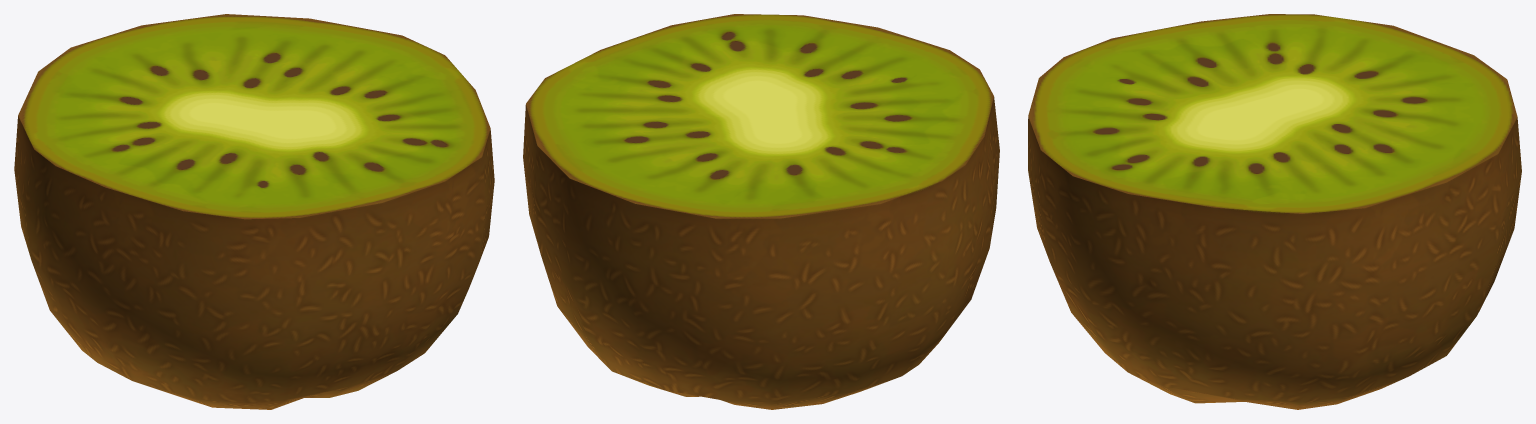
File: SM_KiwiCutTop.fbx
The picture shows the model from 3 angles, left to right: view 1: azimuth 30°, elevation 25°; view 2: azimuth 150°, elevation 25°; view 3: azimuth 270°, elevation 25°; orthographic projection.
Parts seen in each view (by area): view 1: SM_KiwiCutTop; view 2: SM_KiwiCutTop; view 3: SM_KiwiCutTop.
Part boxes in pixels (box(x1,y1,x2,y2)): SM_KiwiCutTop: box(14, 14, 494, 409); SM_KiwiCutTop: box(523, 14, 999, 409); SM_KiwiCutTop: box(1028, 14, 1521, 409).
Bounding box in the file's own units: 9.51 × 5.55 × 9.64.
Materials: 1 (1 with a texture image).
